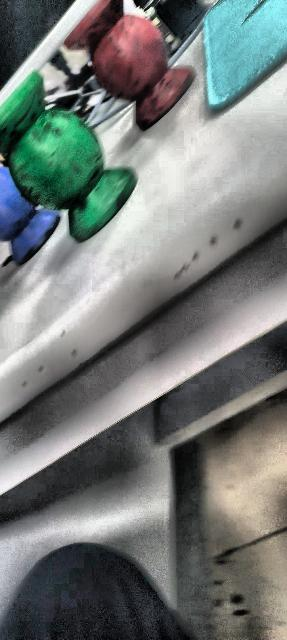blue: (0, 163, 64, 266)
green: (0, 73, 134, 240)
red: (62, 0, 191, 134)
